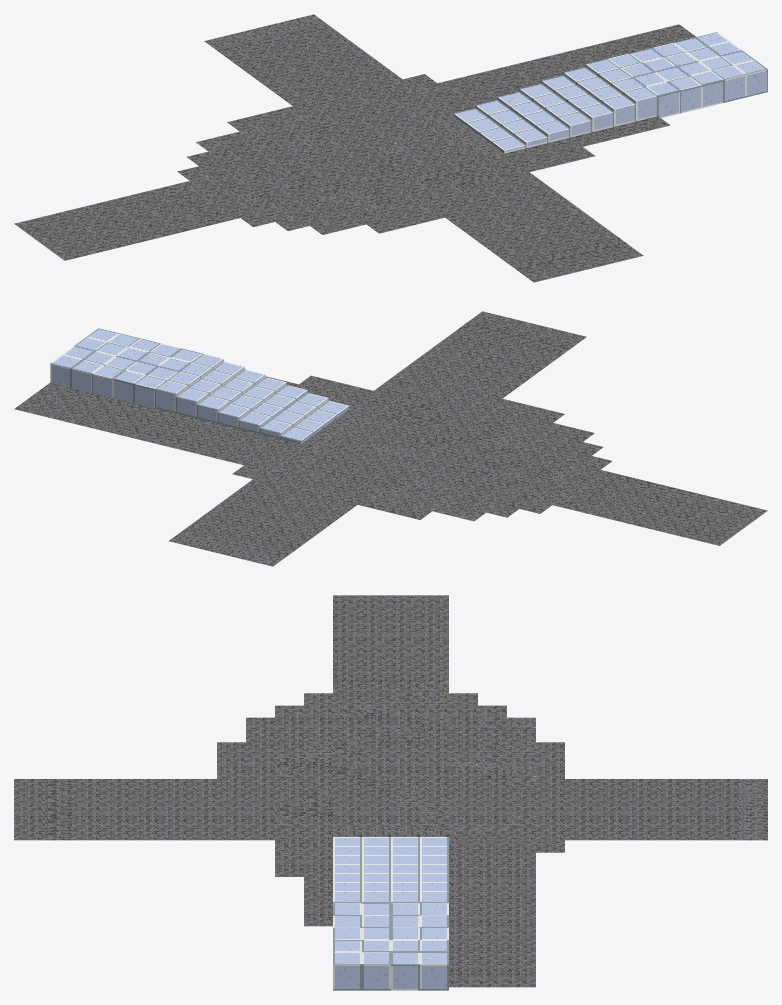
The model's file is map.obj.
The picture shows the model from 3 angles, top to bottom: view 1: azimuth 30°, elevation 25°; view 2: azimuth 150°, elevation 25°; view 3: azimuth 270°, elevation 25°; orthographic projection. The views are drawn at different scales.
Parts seen in each view (by area): view 1: Default; view 2: Default; view 3: Default.
Boxes of the visible parts, x1,y1,x2,y2 form: Default: [14, 14, 767, 282]; Default: [14, 311, 767, 566]; Default: [14, 595, 767, 990].
Size of the model in its own units: 32 by 1.75 by 26.
Materials: 2 (2 with a texture image).
